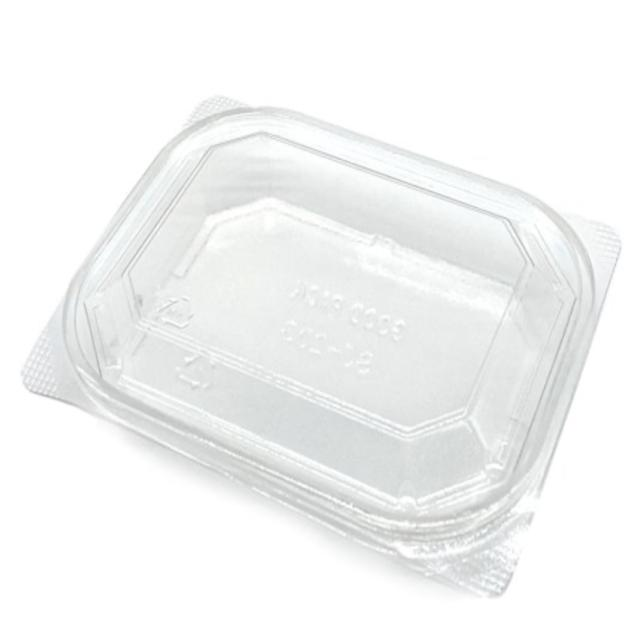recyclable: (15, 80, 624, 600)
